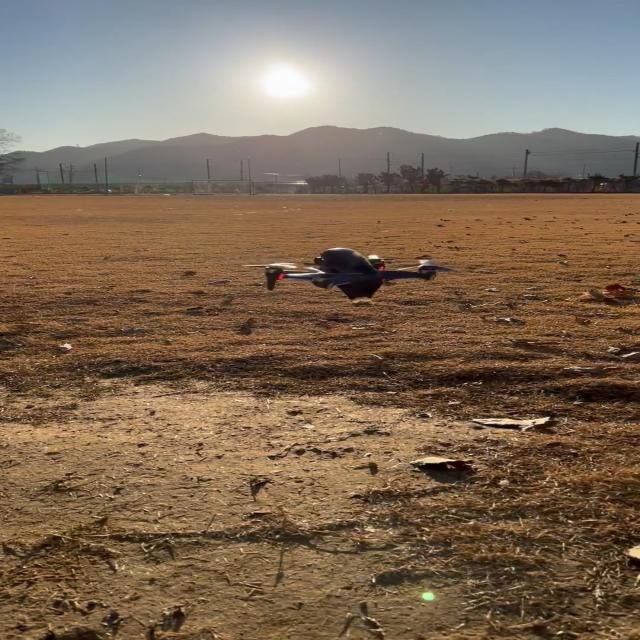Drone: (273, 249, 450, 300)
